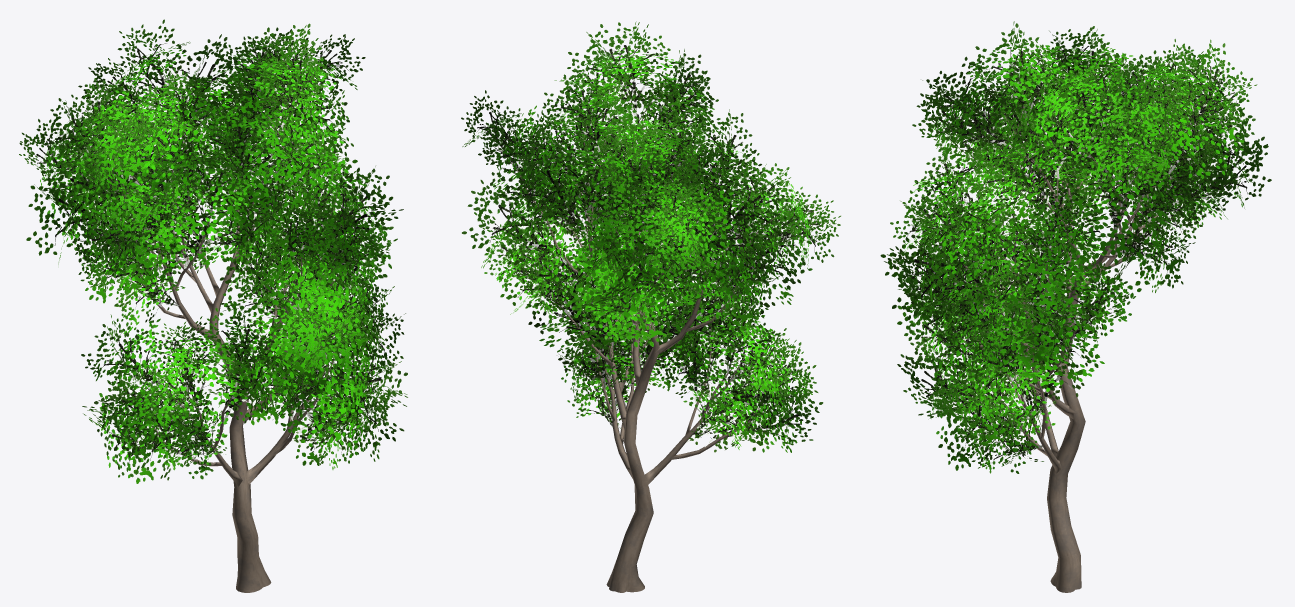
Rendered from tree_Broadleaf_XL2_LOD0.fbx.
3 renders of one model, left to right at view 1: azimuth 30°, elevation 25°; view 2: azimuth 150°, elevation 25°; view 3: azimuth 270°, elevation 25°, orthographic. The views are drawn at different scales.
Parts seen in each view (by area): view 1: Broadleaf_XL2_LOD0; view 2: Broadleaf_XL2_LOD0; view 3: Broadleaf_XL2_LOD0.
Boxes of the visible parts, x1,y1,x2,y2 form: Broadleaf_XL2_LOD0: (19,19,407,592); Broadleaf_XL2_LOD0: (461,21,840,592); Broadleaf_XL2_LOD0: (880,21,1271,592).
Size of the model in its own units: 1355 by 2092 by 1342.
